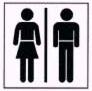Sanitarios: (3, 1, 90, 90)
